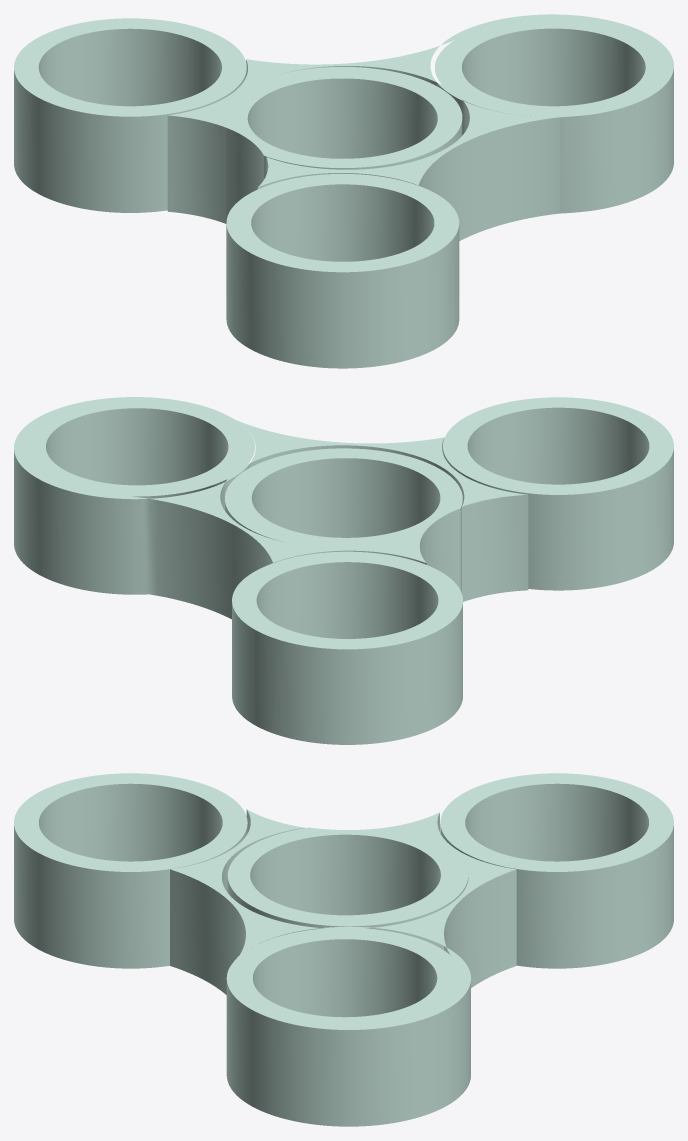
3 views of the same model, one above another, from view 1: azimuth 30°, elevation 25°; view 2: azimuth 150°, elevation 25°; view 3: azimuth 270°, elevation 25° (orthographic).
Visible parts, largest first — view 1: Renderer Node; view 2: Renderer Node; view 3: Renderer Node.
Part boxes in pixels (<box>): Renderer Node: <box>14,14,673,368</box>; Renderer Node: <box>14,397,673,744</box>; Renderer Node: <box>14,773,673,1126</box>.
Bounding box in the file's own units: 1.25 × 0.2188 × 1.35.
